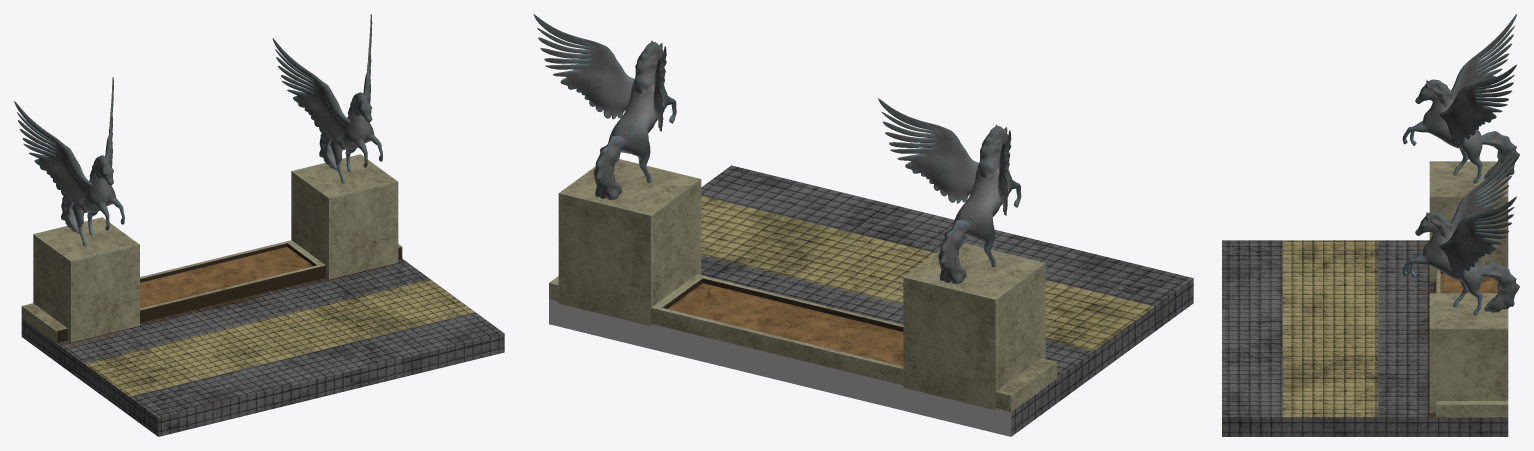
The model's file is Pegasos.fbx.
The picture shows the model from 3 angles, left to right: view 1: azimuth 30°, elevation 25°; view 2: azimuth 150°, elevation 25°; view 3: azimuth 270°, elevation 25°; orthographic projection. The views are drawn at different scales.
Visible parts, largest first — view 1: Muelle, Base.002, Base, Alas.001, Alas, Caballo.001, Caballo; view 2: Muelle, Base.002, Base, Alas.001, Alas, Caballo.001, Caballo, ColaCaballo, ColaCaballo.001, MelenaCaballo, MelenaCaballo.001; view 3: Muelle, Base.002, Alas.001, Alas, Base, Caballo, Caballo.001, ColaCaballo.001, ColaCaballo, MelenaCaballo.001, MelenaCaballo.
Part boxes in pixels (x1,y1,x2,y2): Muelle: (21, 240, 504, 436); Base.002: (291, 154, 398, 279); Base: (33, 217, 139, 342); Alas.001: (272, 14, 372, 143); Alas: (14, 77, 113, 206); Caballo.001: (331, 97, 382, 183); Caballo: (72, 160, 124, 246); Muelle: (549, 165, 1193, 436); Base.002: (558, 159, 701, 325); Base: (903, 243, 1045, 410); Alas.001: (533, 14, 666, 131); Alas: (878, 98, 1010, 215); Caballo.001: (608, 40, 676, 182); Caballo: (953, 124, 1021, 266); ColaCaballo: (938, 220, 969, 284); ColaCaballo.001: (593, 136, 624, 199); MelenaCaballo: (977, 126, 1004, 177); MelenaCaballo.001: (633, 42, 659, 93); Muelle: (1222, 240, 1508, 436); Base.002: (1429, 293, 1508, 413); Alas.001: (1439, 146, 1516, 275); Alas: (1439, 14, 1516, 144); Base: (1429, 161, 1508, 281); Caballo: (1402, 79, 1482, 183); Caballo.001: (1402, 211, 1482, 315); ColaCaballo.001: (1481, 263, 1519, 312); ColaCaballo: (1481, 131, 1519, 179); MelenaCaballo.001: (1424, 211, 1453, 240); MelenaCaballo: (1424, 79, 1453, 108).
Bounding box in the file's own units: 112 × 69.66 × 76.92.
Materials: 2 (2 with a texture image).
